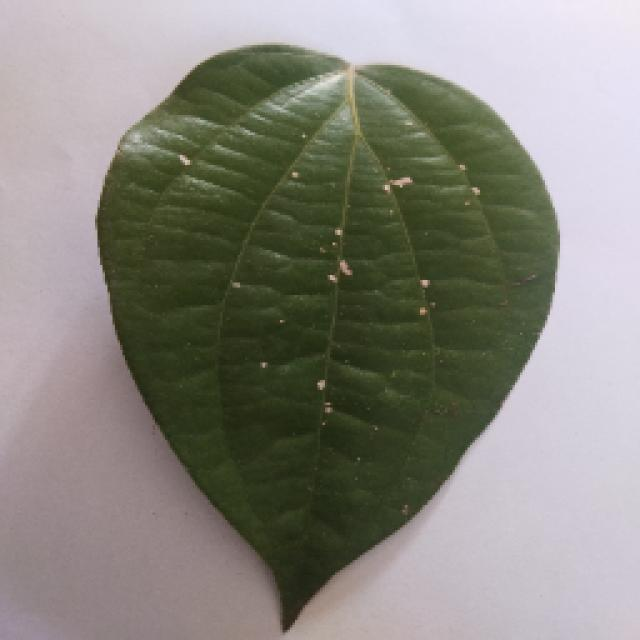pollu-disease: (95, 42, 557, 630)
